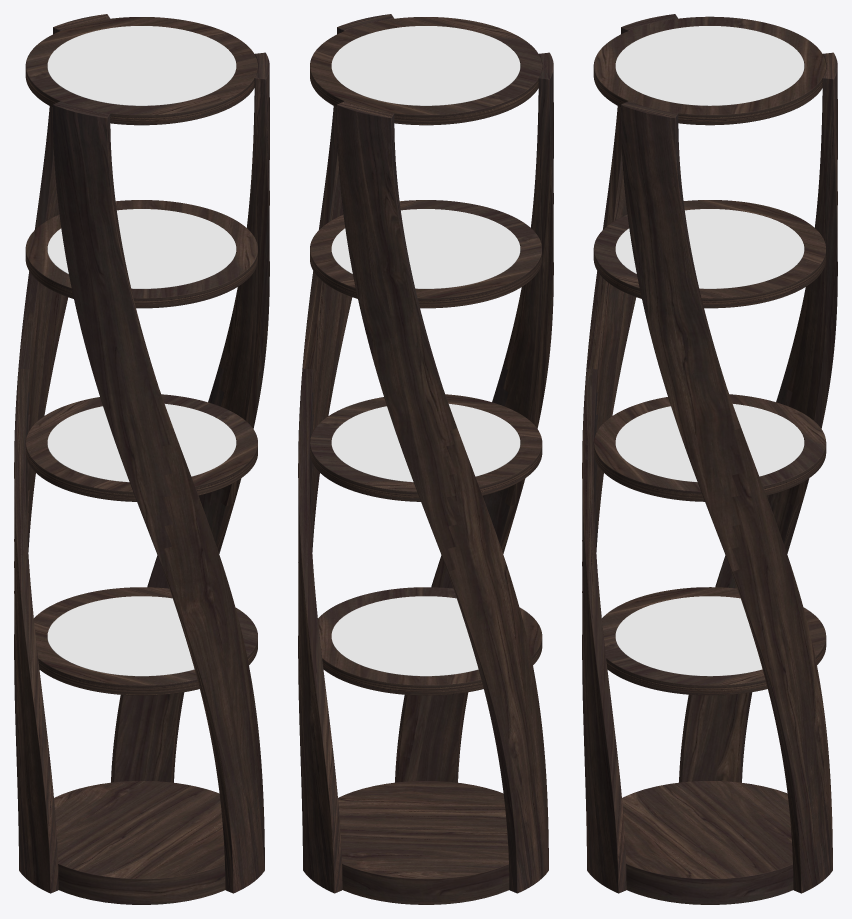
The model's file is twisted_shelve.glb.
The picture shows the model from 3 angles, left to right: view 1: azimuth 30°, elevation 25°; view 2: azimuth 150°, elevation 25°; view 3: azimuth 270°, elevation 25°; orthographic projection.
Visible parts, largest first — view 1: Side_1, Base.001, Side_3, Side_2, Glass_1, Glass_4, Level_1, Glass_2, Glass_3, Level_3, Level_2, Level_4; view 2: Side_3, Base.001, Side_2, Side_1, Glass_1, Glass_4, Level_1, Glass_2, Glass_3, Level_3, Level_2, Level_4; view 3: Side_2, Base.001, Side_1, Side_3, Glass_1, Glass_4, Level_1, Glass_2, Glass_3, Level_3, Level_2, Level_4.
Part boxes in pixels (<box>): Side_1: <box>53,101,264,893</box>; Base.001: <box>54,781,225,904</box>; Side_3: <box>14,14,109,893</box>; Side_2: <box>111,52,269,782</box>; Glass_1: <box>47,26,236,105</box>; Glass_4: <box>47,596,194,676</box>; Level_1: <box>25,17,257,125</box>; Glass_2: <box>47,209,236,288</box>; Glass_3: <box>47,404,236,482</box>; Level_3: <box>25,394,257,501</box>; Level_2: <box>25,200,257,308</box>; Level_4: <box>34,587,257,695</box>; Side_3: <box>337,101,548,893</box>; Base.001: <box>338,780,509,904</box>; Side_2: <box>298,14,393,893</box>; Side_1: <box>395,52,553,782</box>; Glass_1: <box>331,26,520,105</box>; Glass_4: <box>331,596,478,676</box>; Level_1: <box>310,17,542,125</box>; Glass_2: <box>331,209,520,288</box>; Glass_3: <box>331,404,520,482</box>; Level_3: <box>310,394,542,501</box>; Level_2: <box>310,200,542,308</box>; Level_4: <box>318,587,542,695</box>; Side_2: <box>621,101,832,893</box>; Base.001: <box>622,781,793,904</box>; Side_1: <box>582,14,677,893</box>; Side_3: <box>679,52,837,782</box>; Glass_1: <box>615,26,804,105</box>; Glass_4: <box>615,596,762,676</box>; Level_1: <box>593,16,826,125</box>; Glass_2: <box>615,209,804,288</box>; Glass_3: <box>615,404,804,482</box>; Level_3: <box>593,394,826,501</box>; Level_2: <box>593,200,826,308</box>; Level_4: <box>602,587,826,695</box>.
Bounding box in the file's own units: 0.4399 × 1.5 × 0.4399.
Materials: 2 (1 with a texture image).
